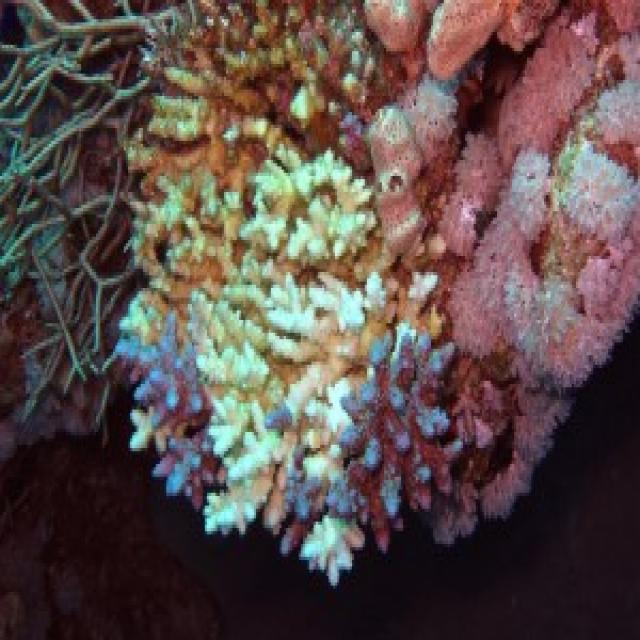Bleached: (193, 151, 385, 551)
Healthy: (366, 1, 639, 513), (127, 1, 434, 347), (338, 324, 524, 551), (120, 315, 216, 507)
